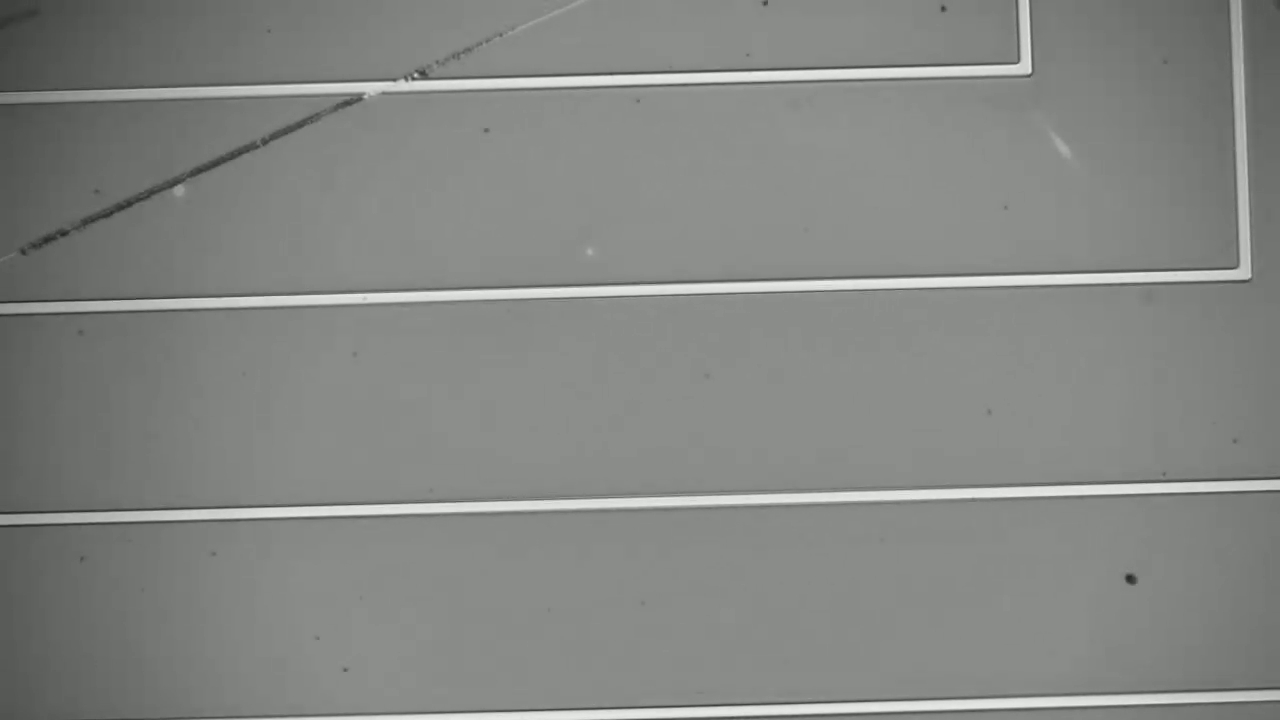scratch: (2, 1, 597, 268)
